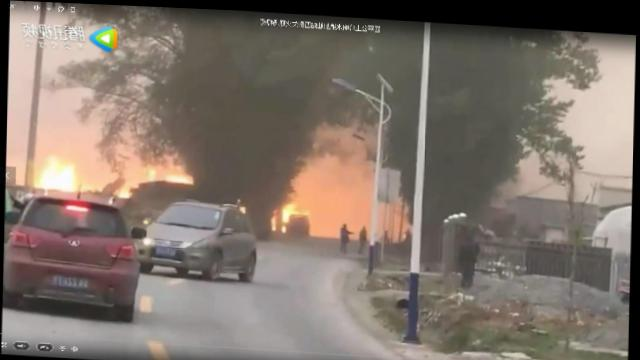fire: (38, 157, 82, 190), (164, 168, 194, 181), (119, 176, 133, 198), (283, 198, 294, 219), (294, 200, 310, 210), (148, 167, 158, 180)
